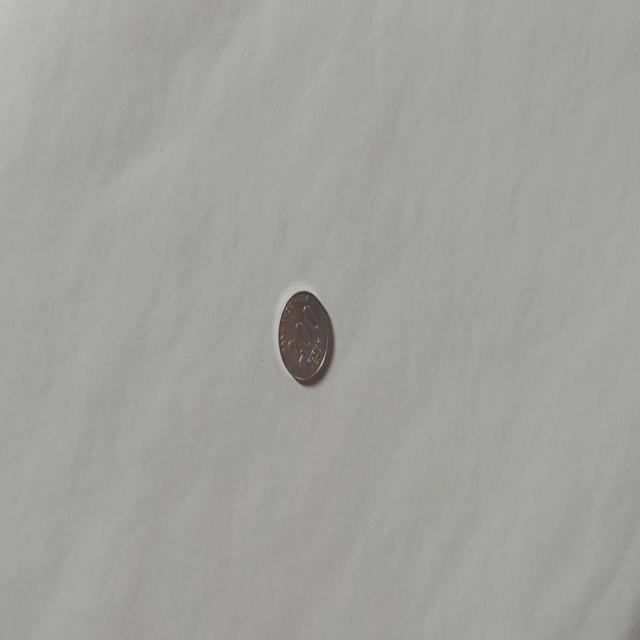dua ratus rupiah: (277, 288, 330, 384)
